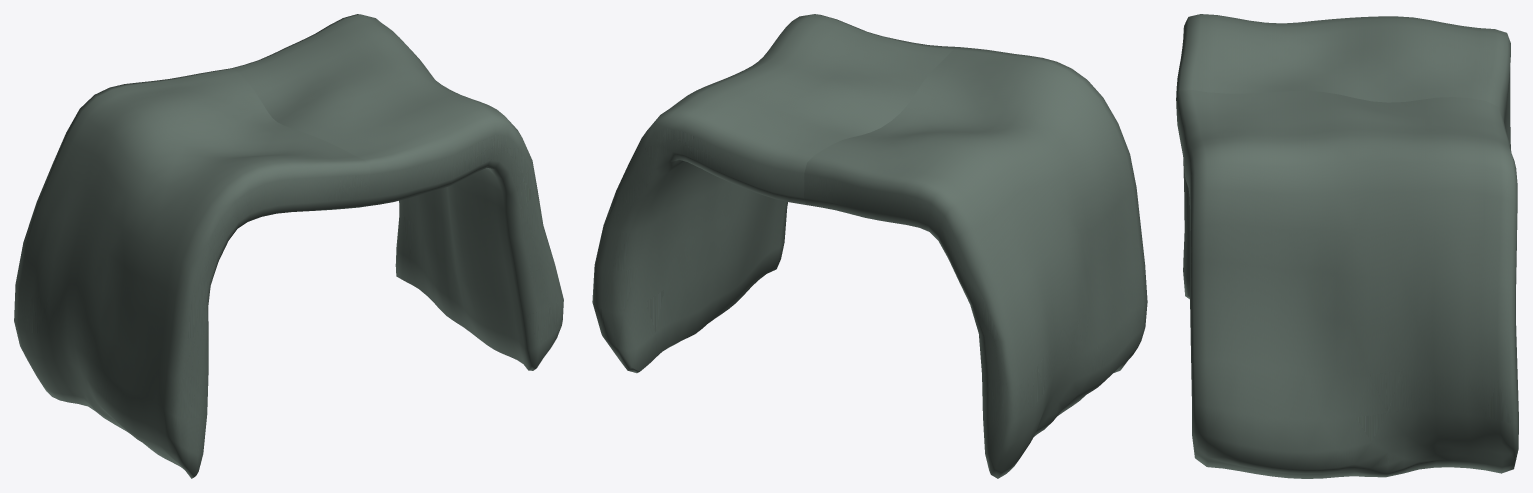
Rendered from CouvertureNew.FBX.
3 renders of one model, left to right at view 1: azimuth 30°, elevation 25°; view 2: azimuth 150°, elevation 25°; view 3: azimuth 270°, elevation 25°, orthographic. The views are drawn at different scales.
Visible parts, largest first — view 1: CouvertureBleueNEW; view 2: CouvertureBleueNEW; view 3: CouvertureBleueNEW.
Boxes of the visible parts, <box> form: CouvertureBleueNEW: <box>14,14,563,478</box>; CouvertureBleueNEW: <box>592,14,1147,478</box>; CouvertureBleueNEW: <box>1176,14,1518,478</box>.
Bounding box in the file's own units: 1.3 × 0.8288 × 0.8811.
1 material, 1 textured.
